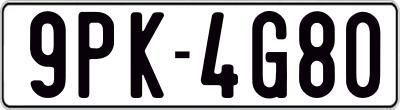0: (344, 12, 380, 104)
4: (201, 10, 244, 96)
8: (298, 8, 337, 95)
9: (29, 11, 68, 98)
G: (252, 10, 289, 98)
K: (129, 11, 166, 103)
P: (78, 10, 117, 99)
